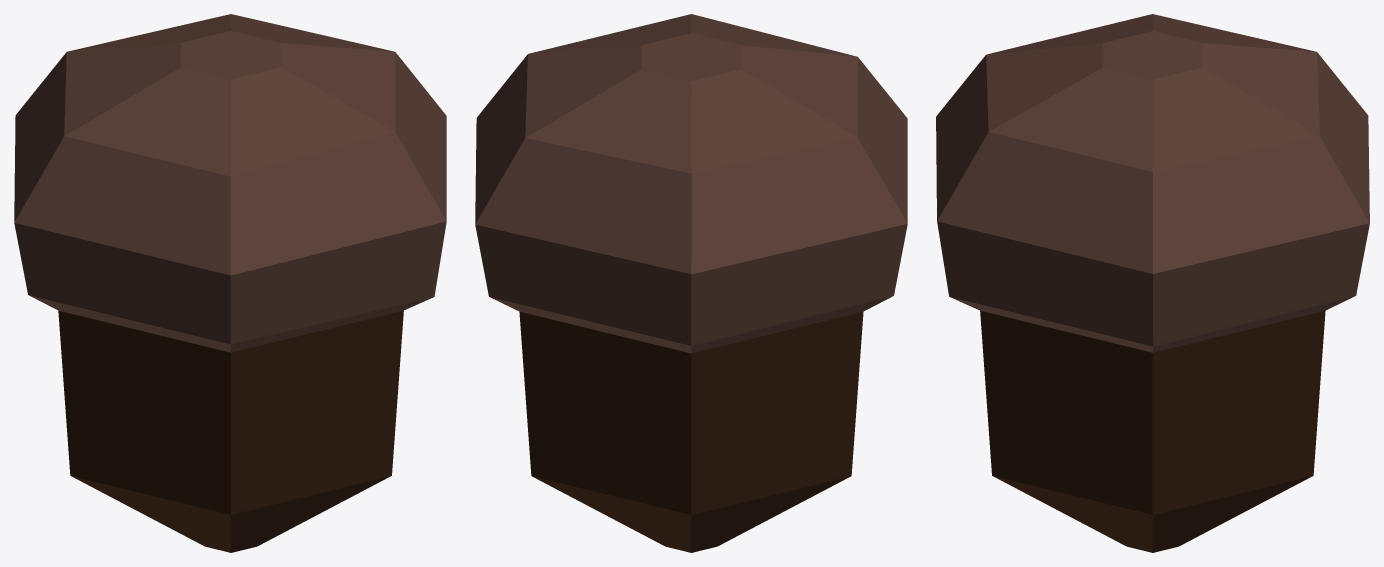
File: Acorn.fbx
3 renders of one model, left to right at view 1: azimuth 30°, elevation 25°; view 2: azimuth 150°, elevation 25°; view 3: azimuth 270°, elevation 25°, orthographic.
Visible parts, largest first — view 1: Acorn; view 2: Acorn; view 3: Acorn.
Part boxes in pixels (bbox=[...]): Acorn: bbox=[14, 14, 446, 552]; Acorn: bbox=[475, 14, 907, 552]; Acorn: bbox=[936, 14, 1369, 552].
Size of the model in its own units: 24.62 by 26.37 by 21.38.
